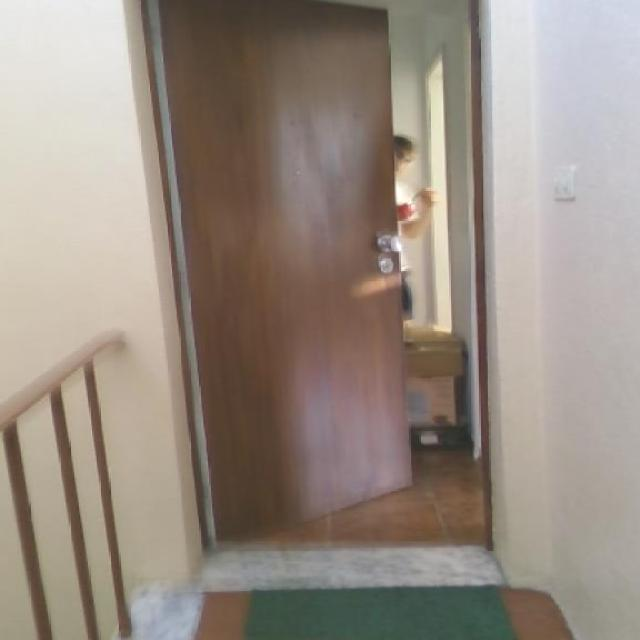door: (140, 0, 415, 545)
